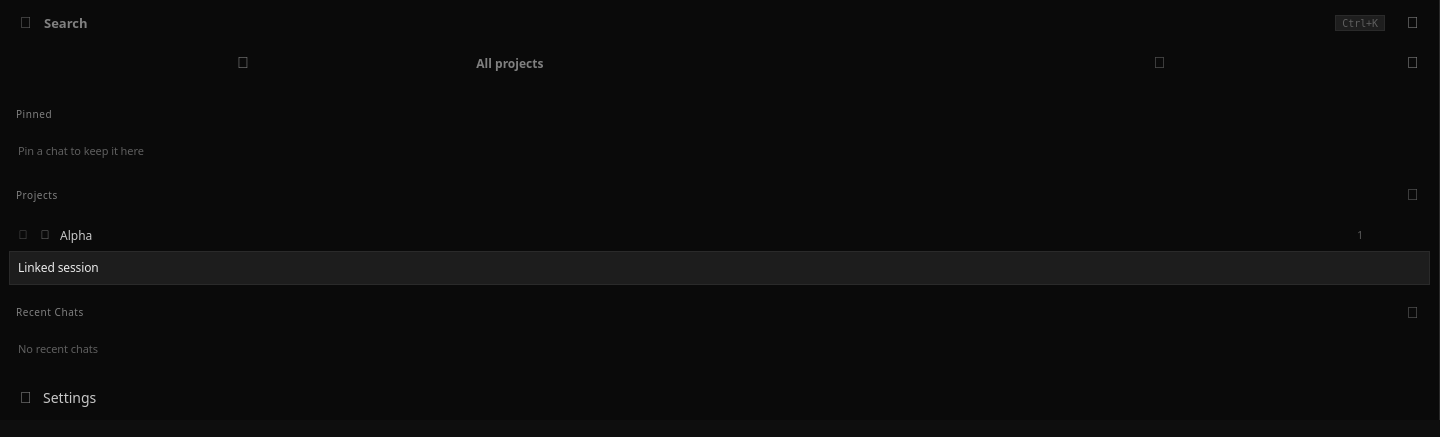
it: ProjectsRail session actions › tells a project-scoped rail where its chats went instead of claiming there are none
The image size is (1440, 437).
Click the button " All projects ".
click(510, 63)  # box [10, 47, 1393, 79]
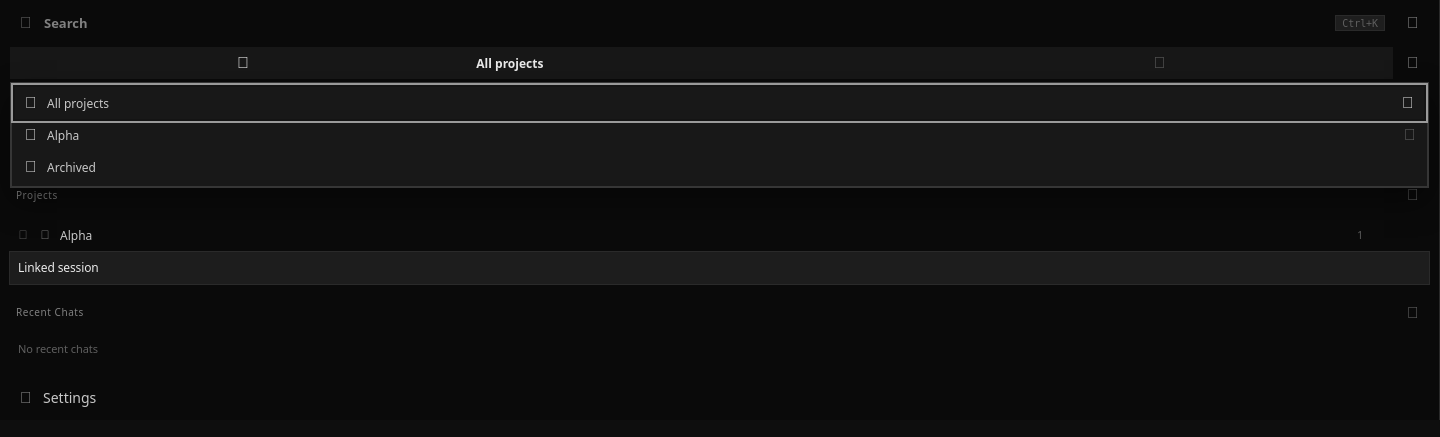
Click the menu item " Alpha".
click(63, 135)  # box [15, 119, 1396, 151]
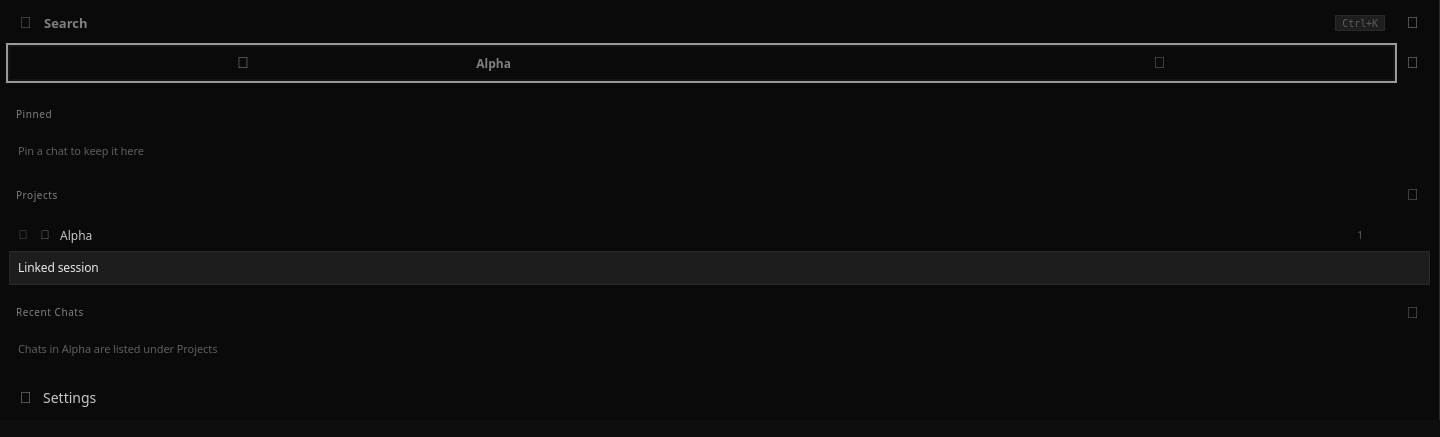
Now the element with test id "recent-chats-section" shows "Chats in Alpha are listed under Projects", box [18, 341, 217, 356]
